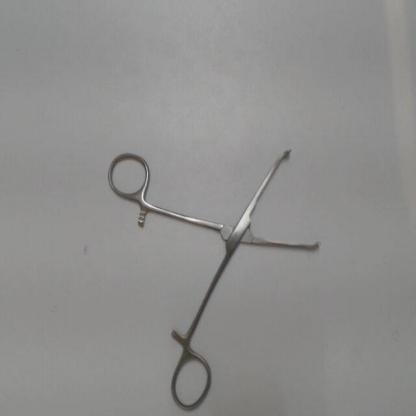Allis Tissue Forceps: (103, 141, 328, 414)
